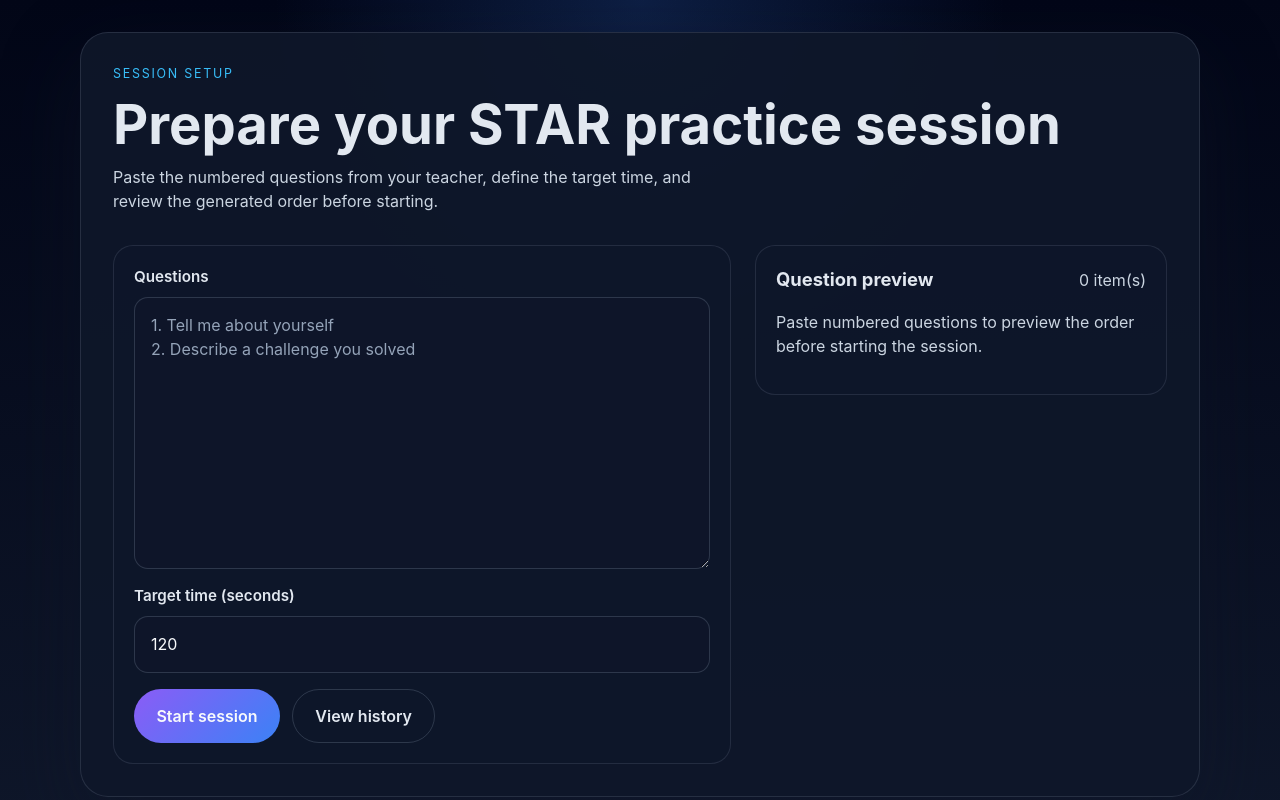
Scenario: Session review flow › lists the saved sessions returned by GET /sessions
The width and height of the screenshot is (1280, 800).
Click the button "View history" at [364, 716], box [292, 689, 435, 744]
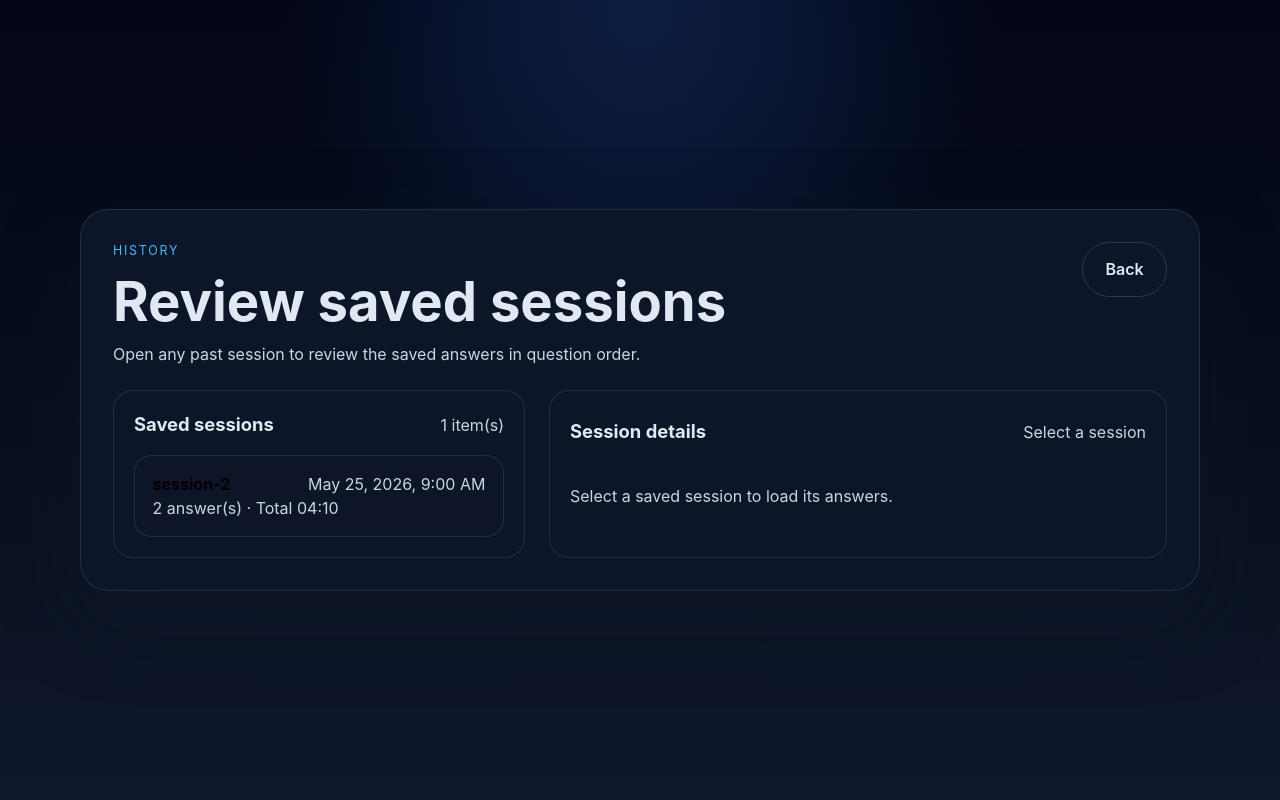
Expected: the text "session-2" is shown, [153, 472, 230, 496]
Expected: the text "2 answer(s) · Total 04:10" is shown, [153, 498, 339, 518]
